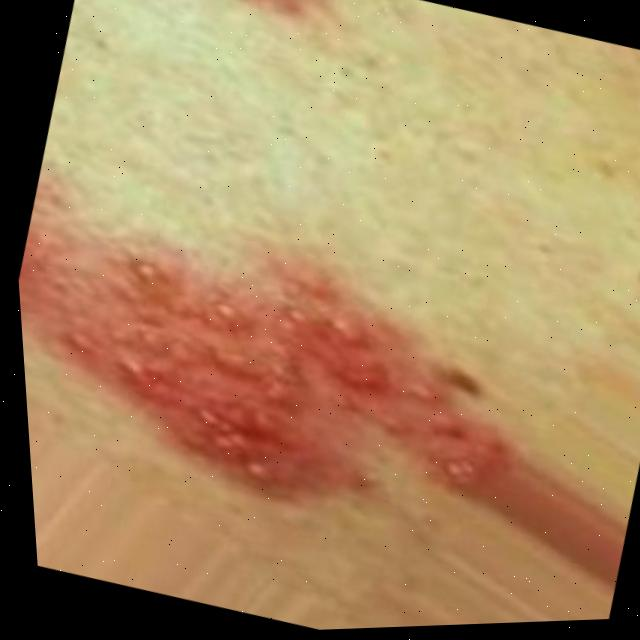Shingles: (13, 179, 543, 563), (178, 0, 318, 24)
